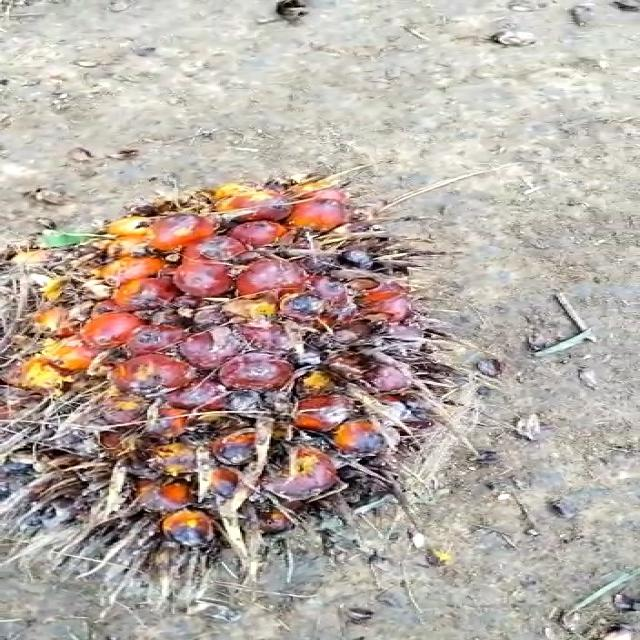palm oil: (0, 174, 487, 587)
